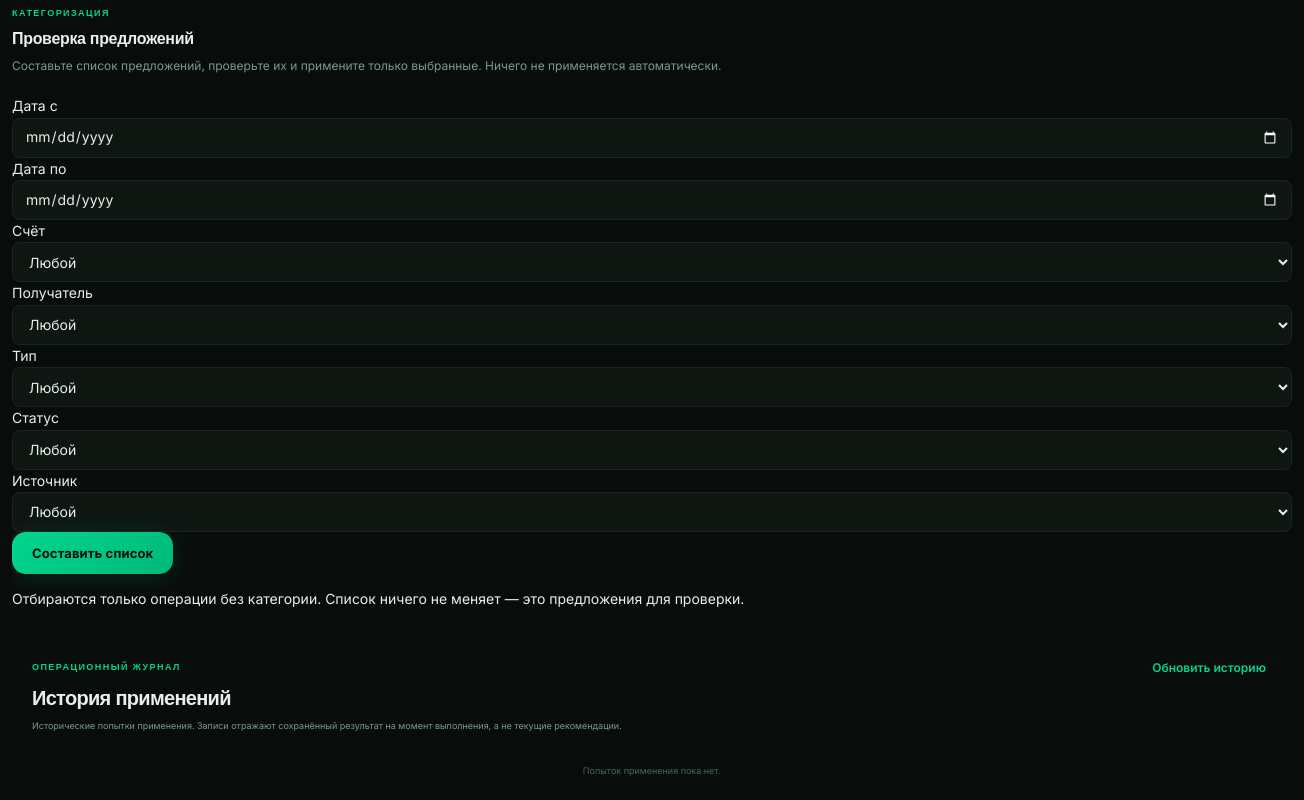
it: a successful apply does not regenerate the preview
The width and height of the screenshot is (1304, 800).
Submit the form
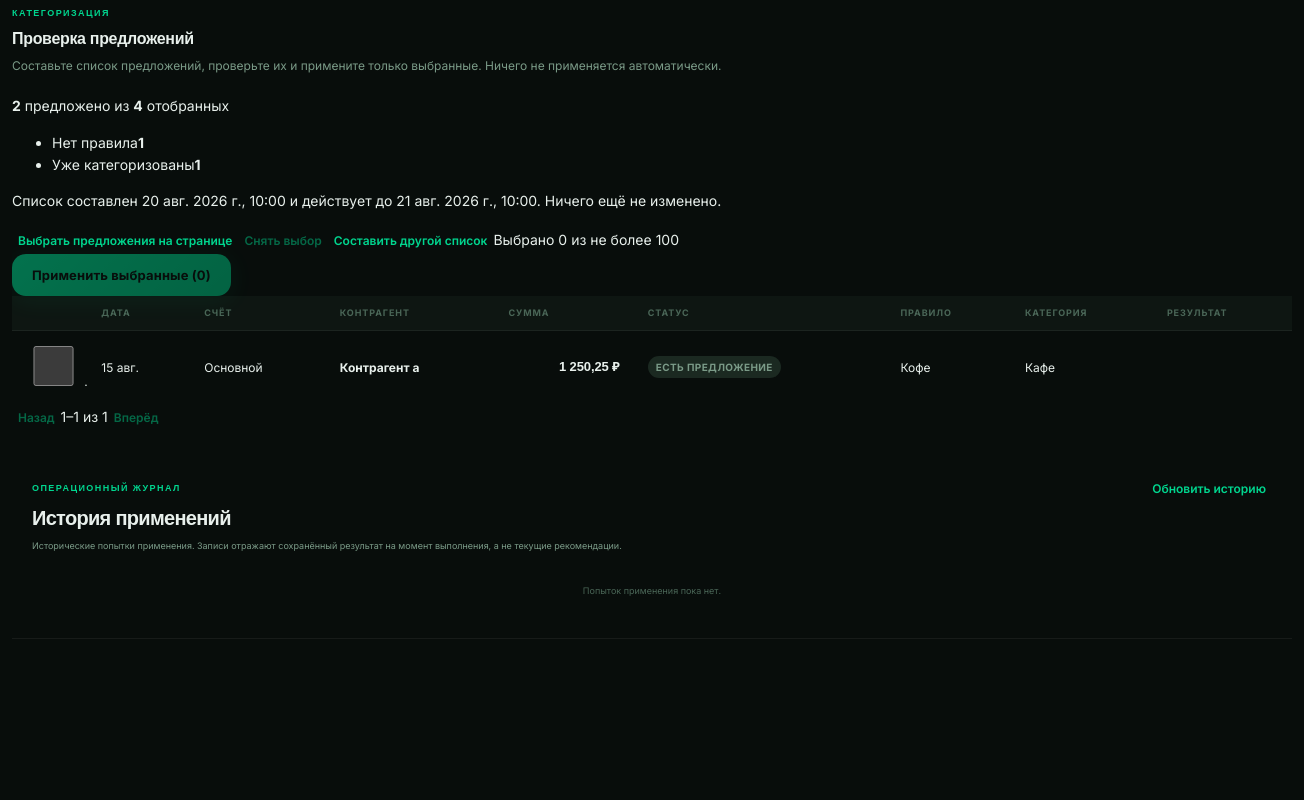
Click the checkbox named "Выбрать операцию Контрагент a".
click(54, 366)  # box [30,346,77,386]
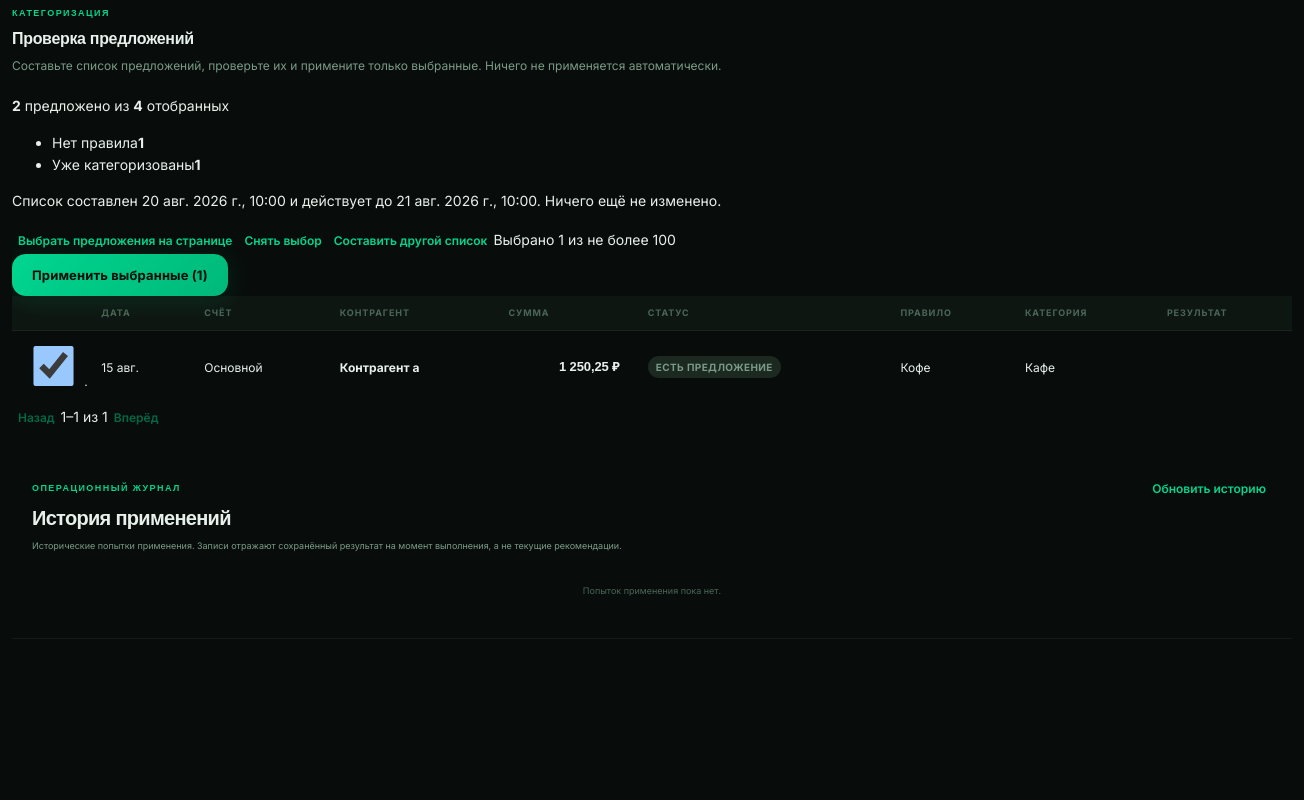
Click the button "Применить выбранные (1)".
click(120, 275)  # box [12,254,228,296]
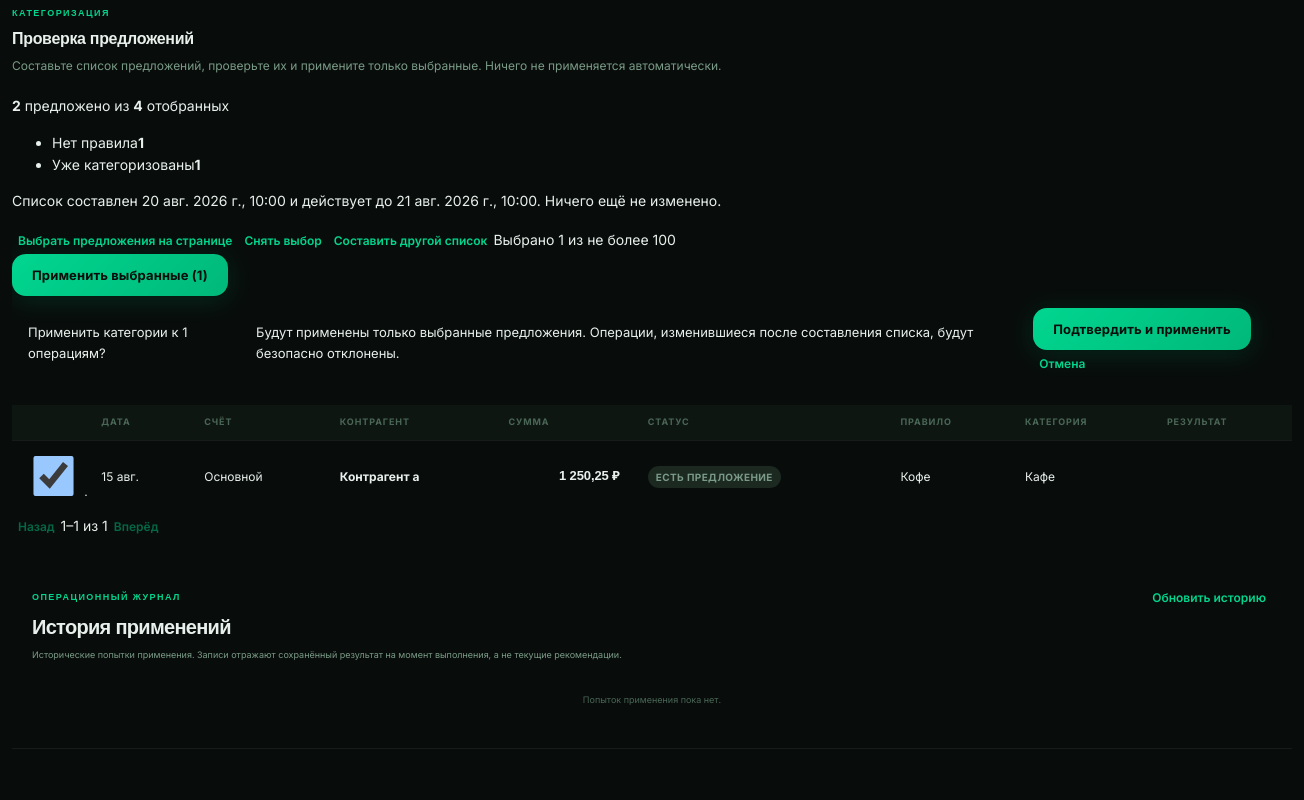
Click the button "Подтвердить и применить".
click(1142, 329)  # box [1033,308,1251,350]
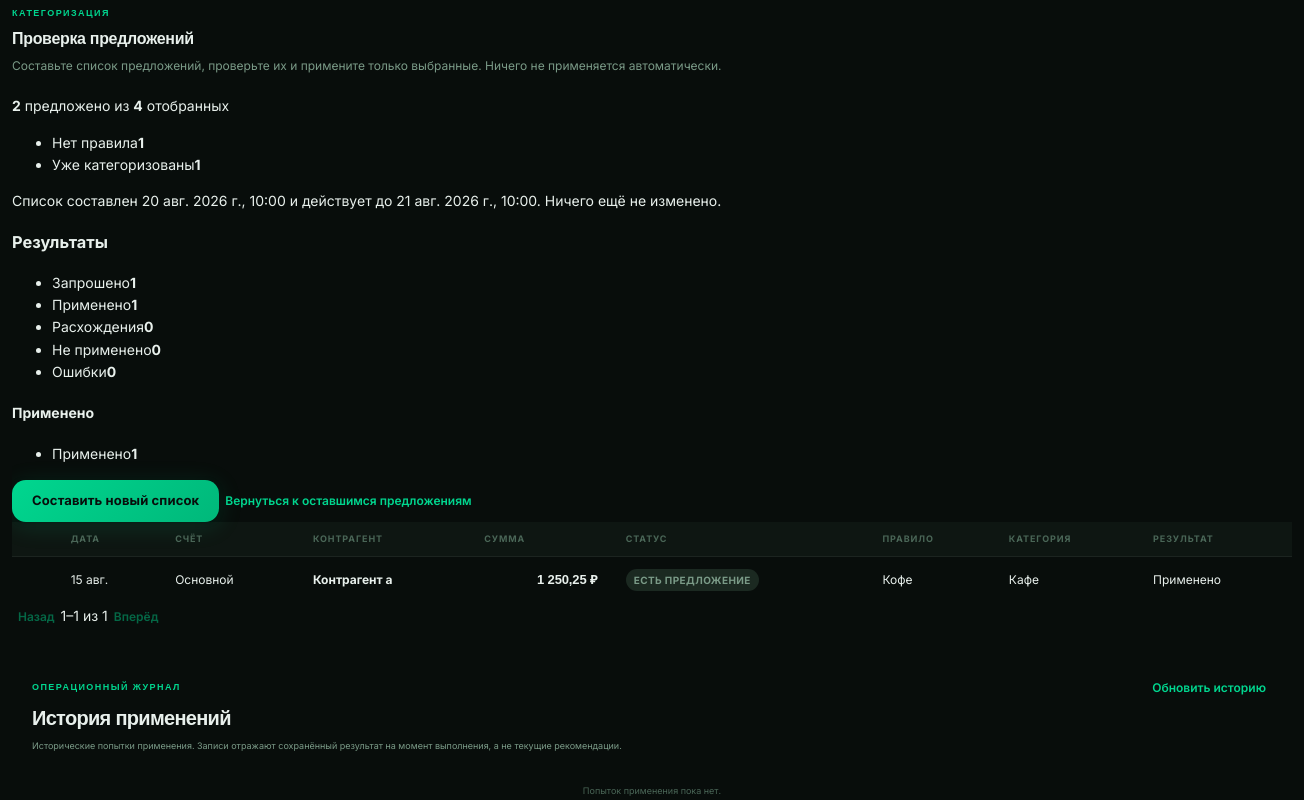
Now the text "Результаты" is shown, box [12,232,108,252]
Now the button "Составить новый список" is shown, box [12,480,219,522]
